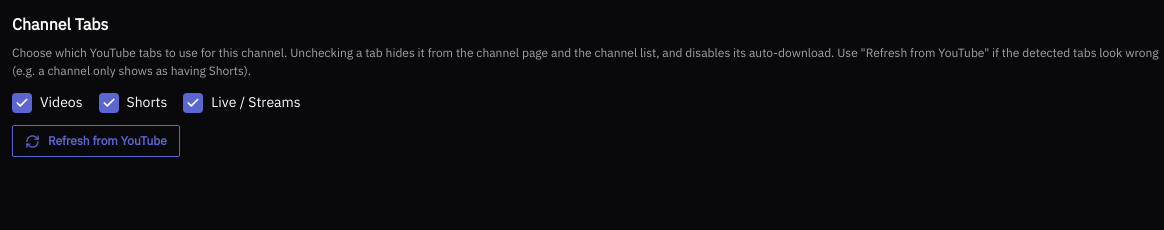
Test: TabsEditor › shows an error message when refresh fails
Step 1. Click the button with test id "tabs-editor-refresh" → (96, 141), box [12,125,180,157]
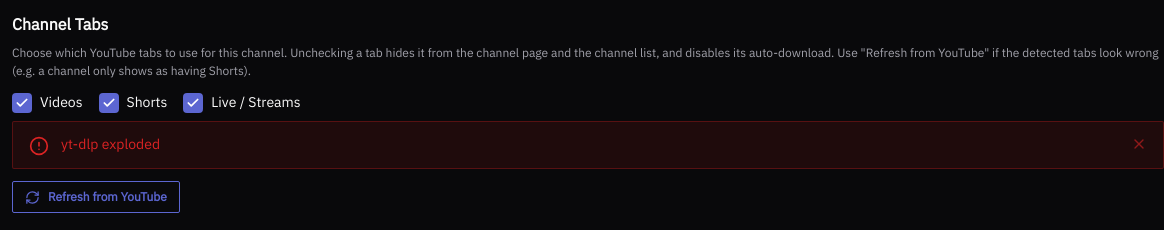
Expected: the text "yt-dlp exploded" is shown, [61,135,160,153]
